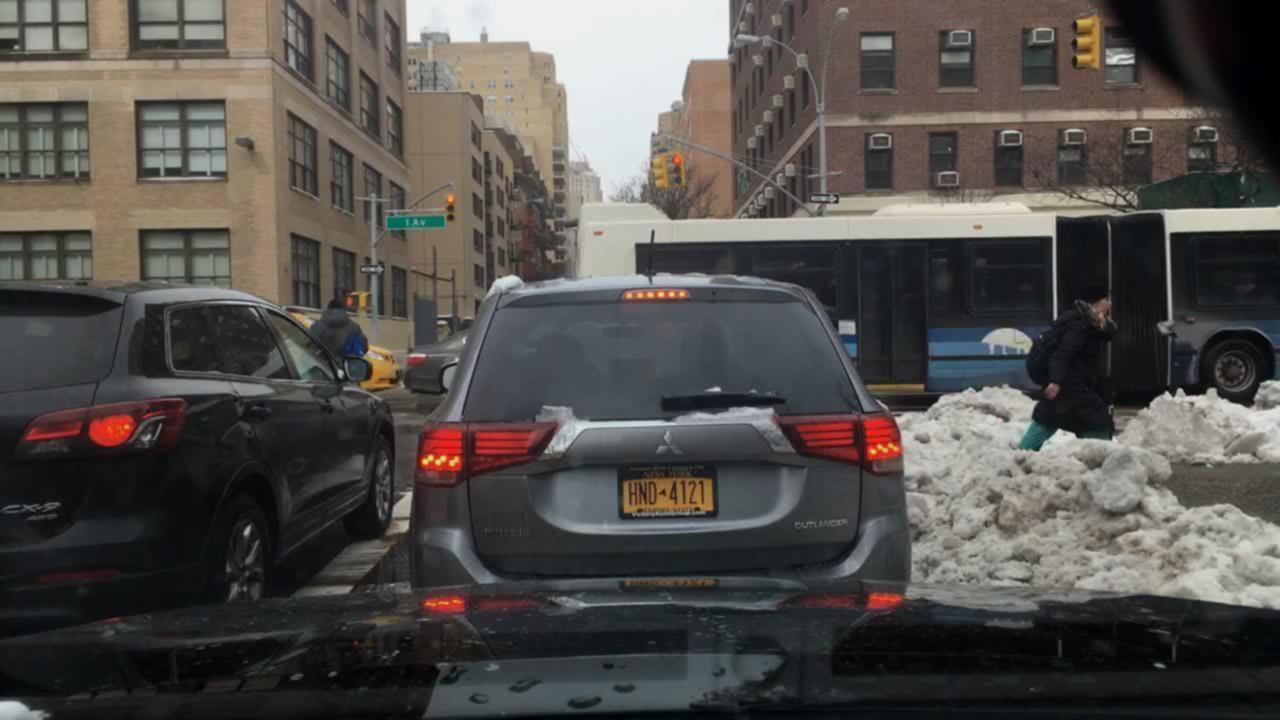Mitsubishi: (650, 422, 688, 466)
